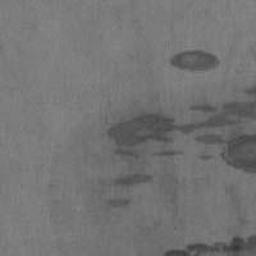Oil spot: (45, 70, 256, 256), (169, 50, 221, 73)
